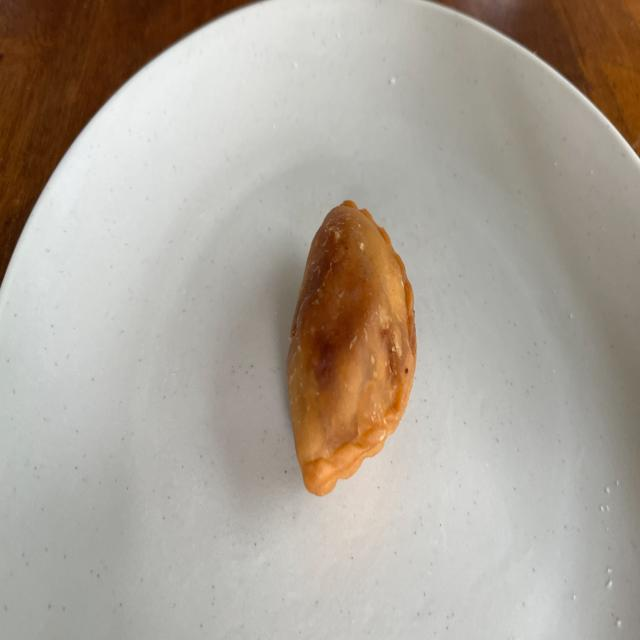karipap: (286, 200, 416, 496)
